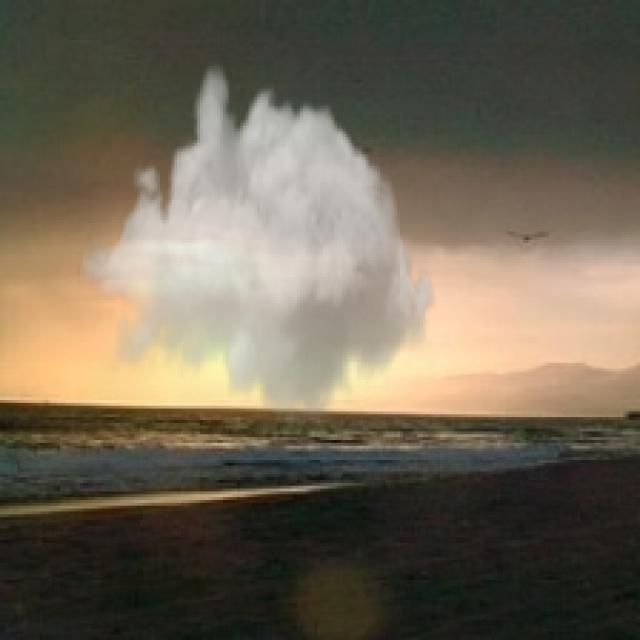smoke: (77, 60, 437, 434)
